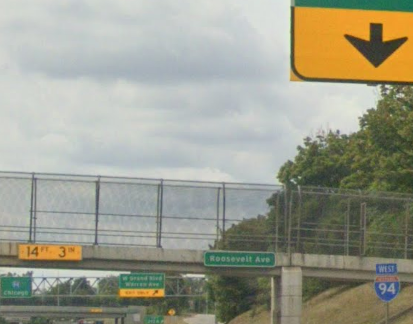1: (24, 242, 31, 262)
3: (55, 245, 69, 261)
4: (29, 244, 41, 261)
overheadsign: (14, 241, 84, 262)
